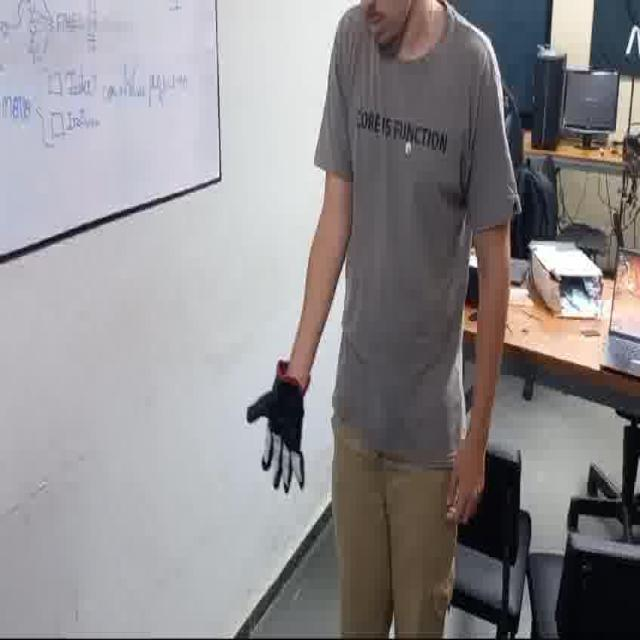Gloves: (247, 359, 311, 493)
